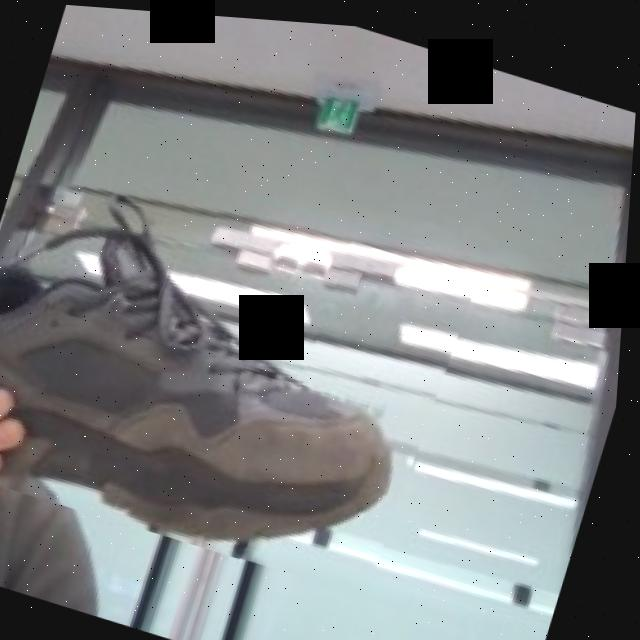shoe: (0, 137, 487, 602)
